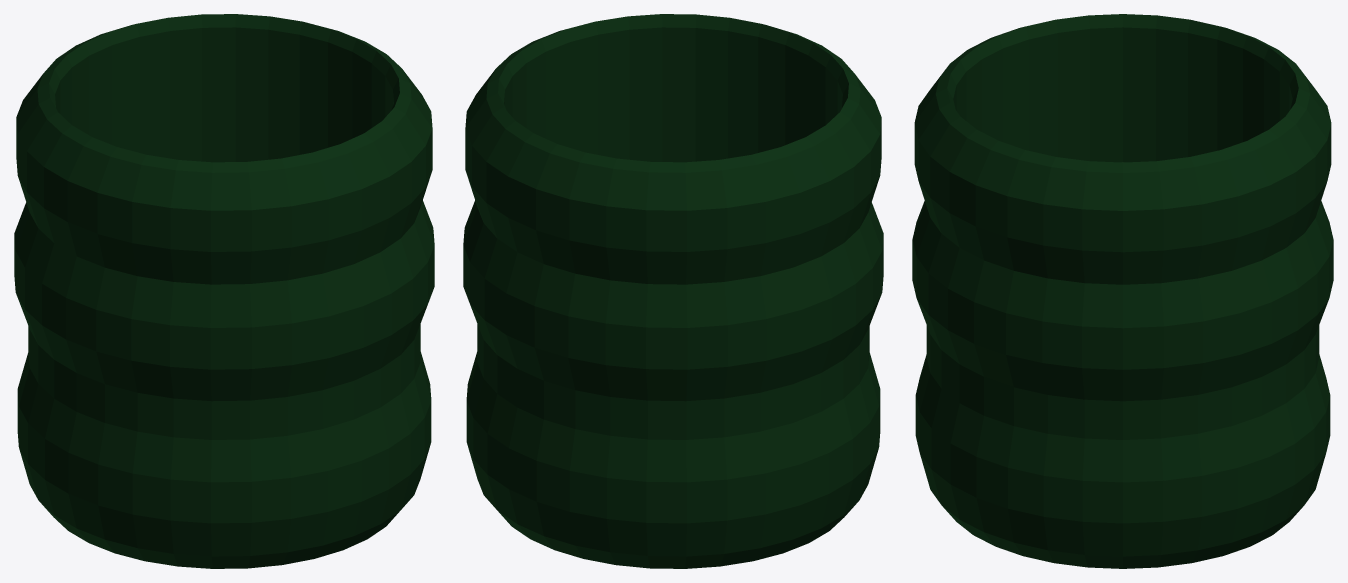
File: jap_cup.fbx
3 renders of one model, left to right at view 1: azimuth 30°, elevation 25°; view 2: azimuth 150°, elevation 25°; view 3: azimuth 270°, elevation 25°, orthographic.
Visible parts, largest first — view 1: Cylinder; view 2: Cylinder; view 3: Cylinder.
Boxes of the visible parts, bbox=[...] form: Cylinder: bbox=[14, 14, 434, 568]; Cylinder: bbox=[463, 14, 883, 568]; Cylinder: bbox=[912, 14, 1333, 568].
Bounding box in the file's own units: 214 × 235 × 214.
